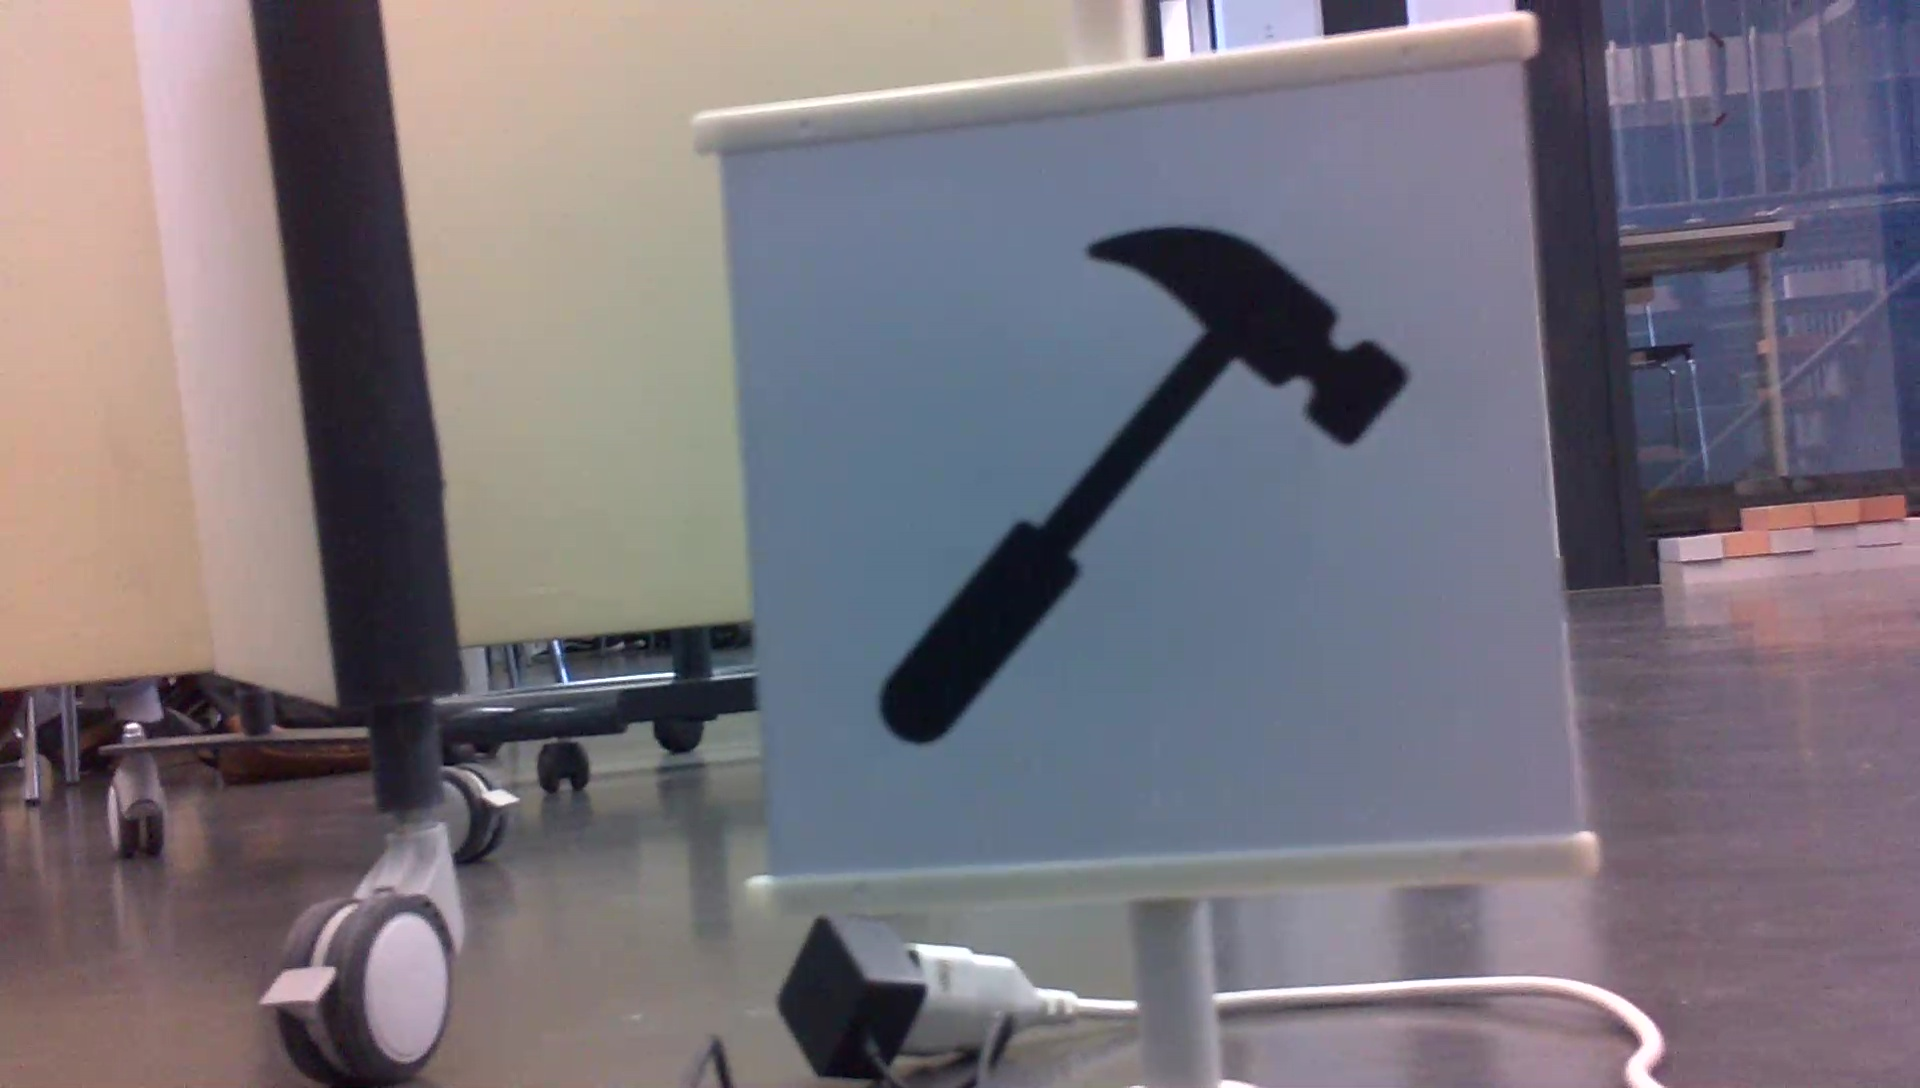hammer: (865, 220, 1418, 756)
